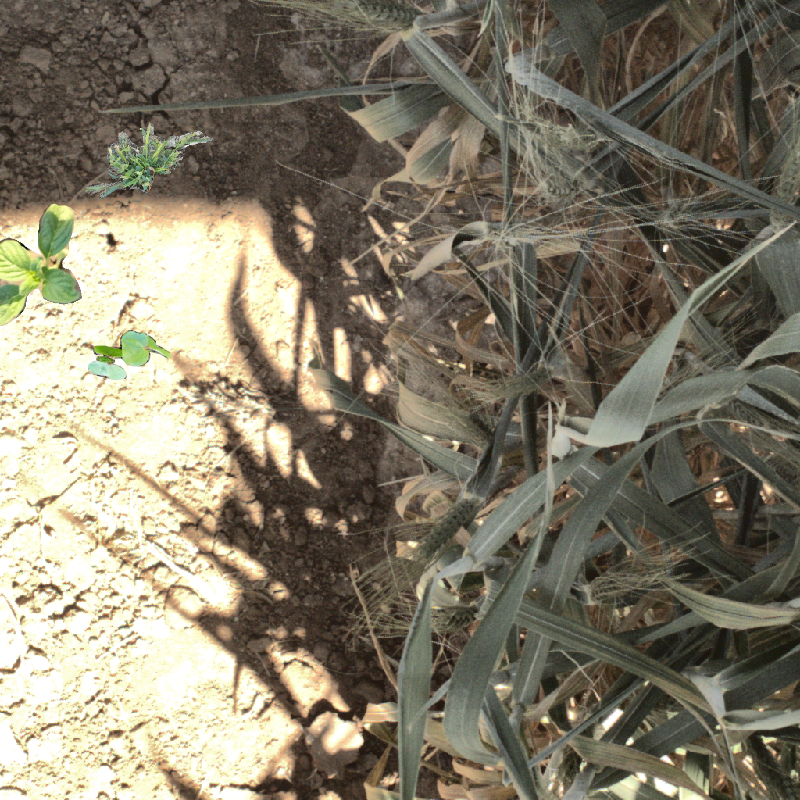spikelet: (413, 489, 484, 561), (580, 558, 679, 608), (526, 111, 608, 152), (469, 364, 558, 400), (329, 1, 421, 34), (480, 217, 549, 258), (649, 188, 708, 227), (534, 170, 590, 208), (774, 147, 800, 219)
weed: (1, 203, 82, 326), (88, 122, 212, 191), (85, 330, 173, 379)
